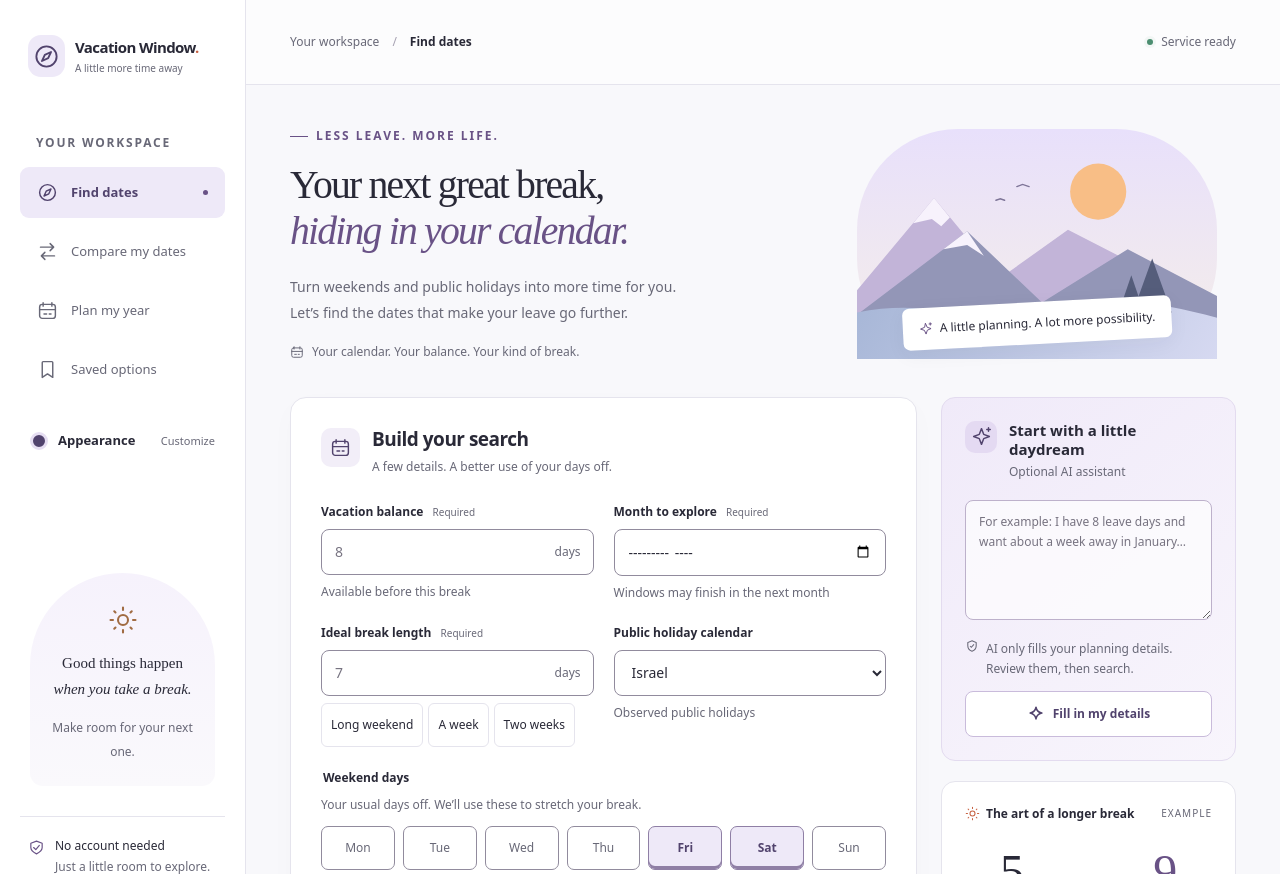
Scenario: manual dates fill their chosen slot and require explicit conversion when lengths differ
The width and height of the screenshot is (1280, 874).
Expected: the text "Service ready" is shown, top-left (1147, 33), bottom-right (1236, 51)
Click the button "Plan my year" at (122, 310), box top-left (20, 285), bottom-right (225, 336)
(page scrolled)
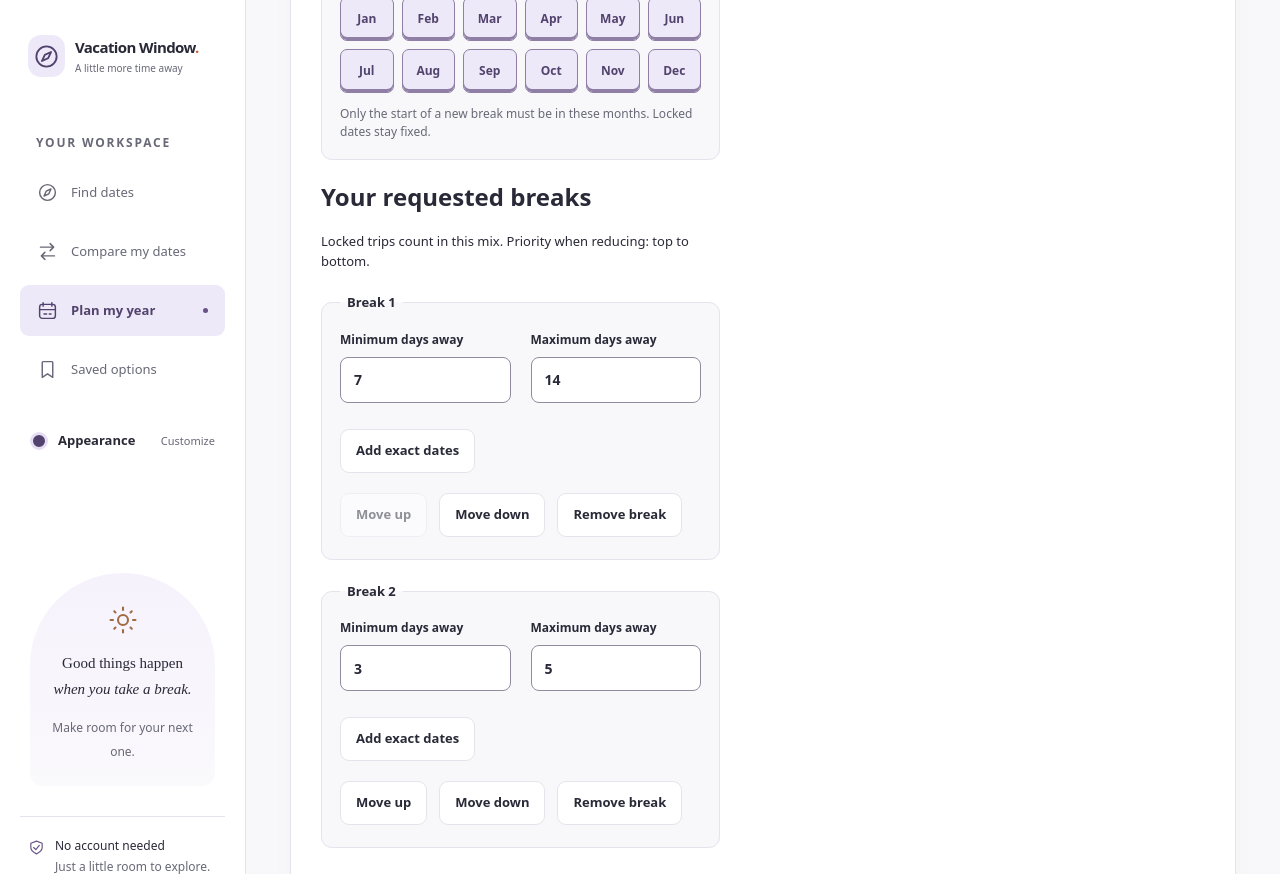
Click the 1st button "Add exact dates" at (408, 451), box top-left (340, 429), bottom-right (475, 473)
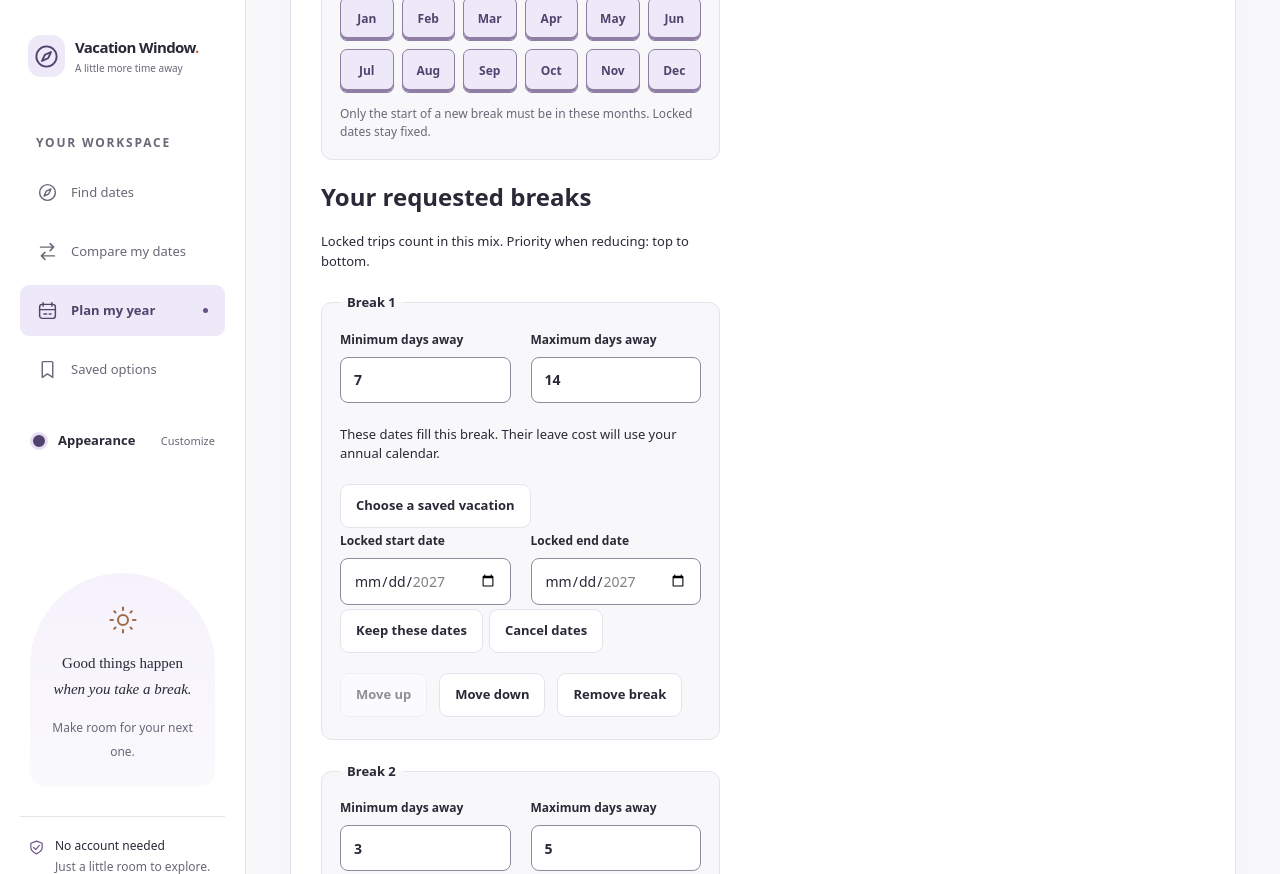
Type "2027-08-06" into the date field labelled "Locked start date" at (425, 581), box top-left (340, 558), bottom-right (510, 605)
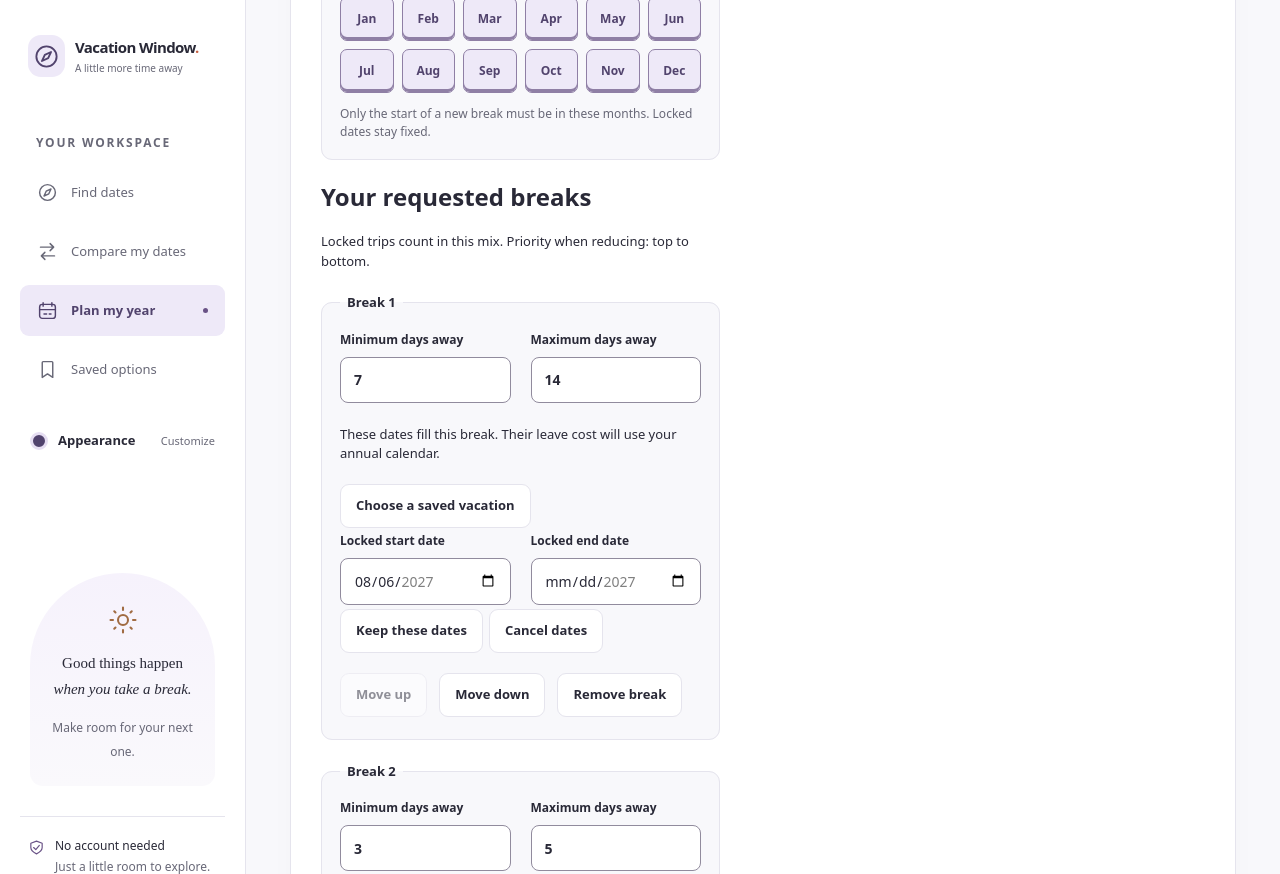
Type "2027-08-07" into the date field labelled "Locked end date" at (616, 581), box top-left (530, 558), bottom-right (701, 605)
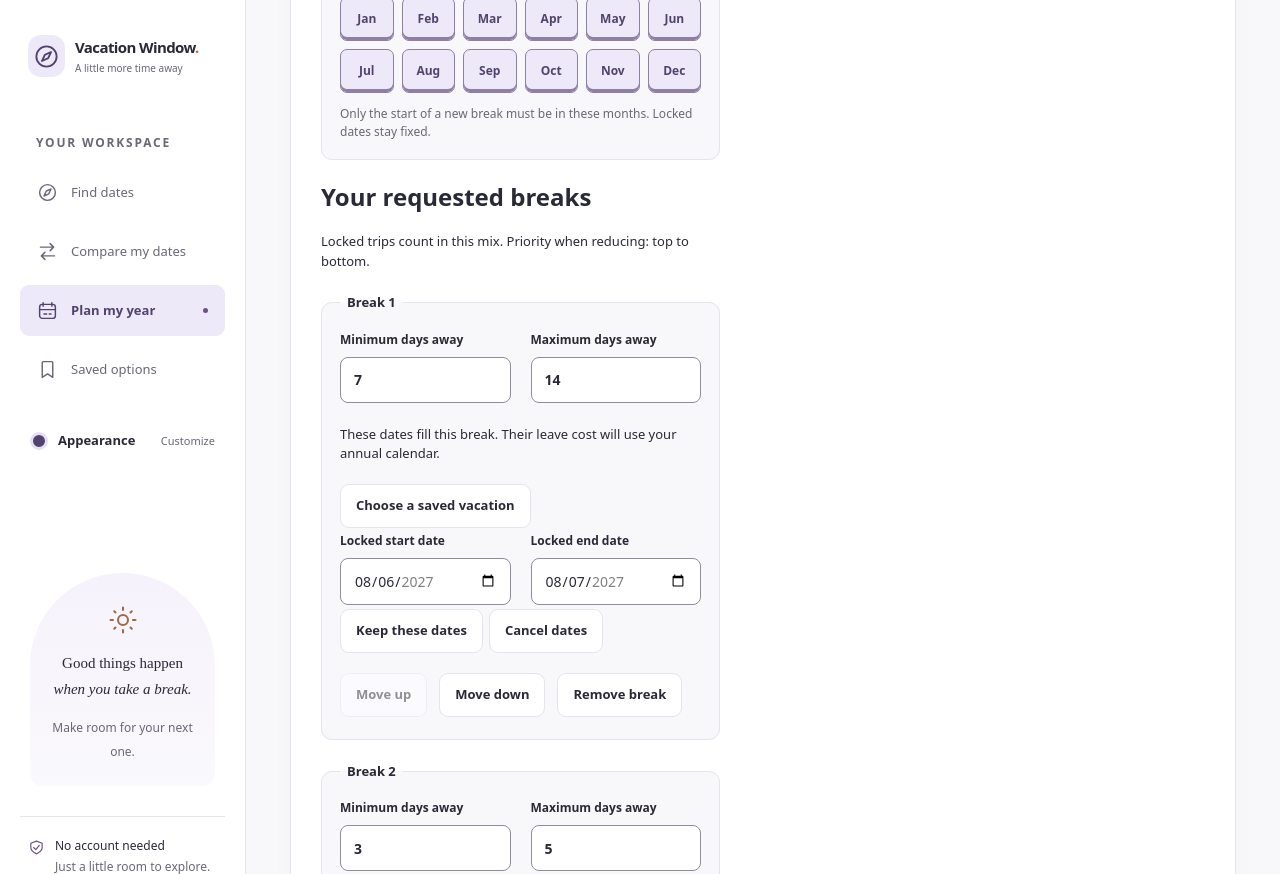
Click the button "Keep these dates" at (411, 631), box top-left (340, 609), bottom-right (483, 653)
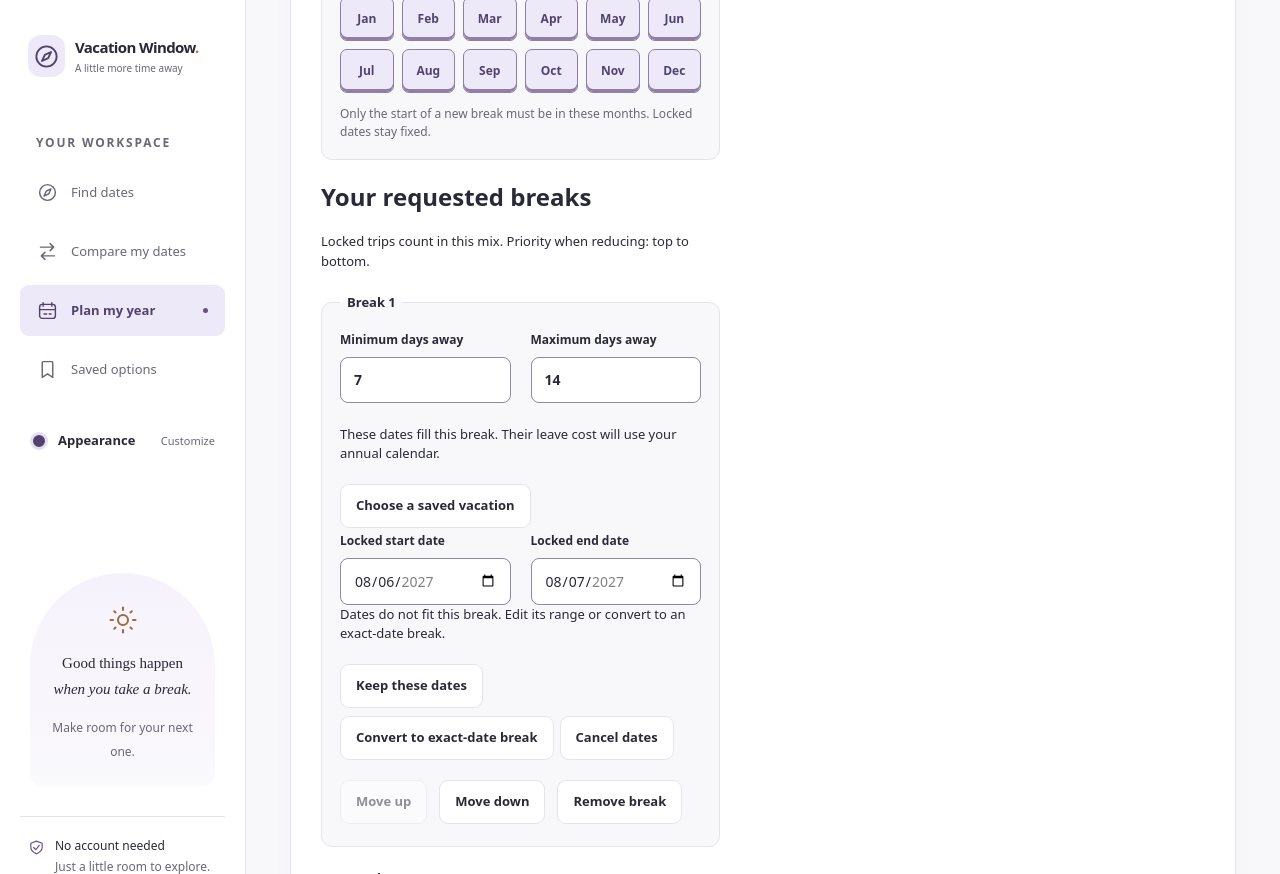
Now the message shows "Dates do not fit this break", box top-left (340, 605), bottom-right (686, 642)
Click the button "Convert to exact-date break" at (447, 738), box top-left (340, 716), bottom-right (554, 760)
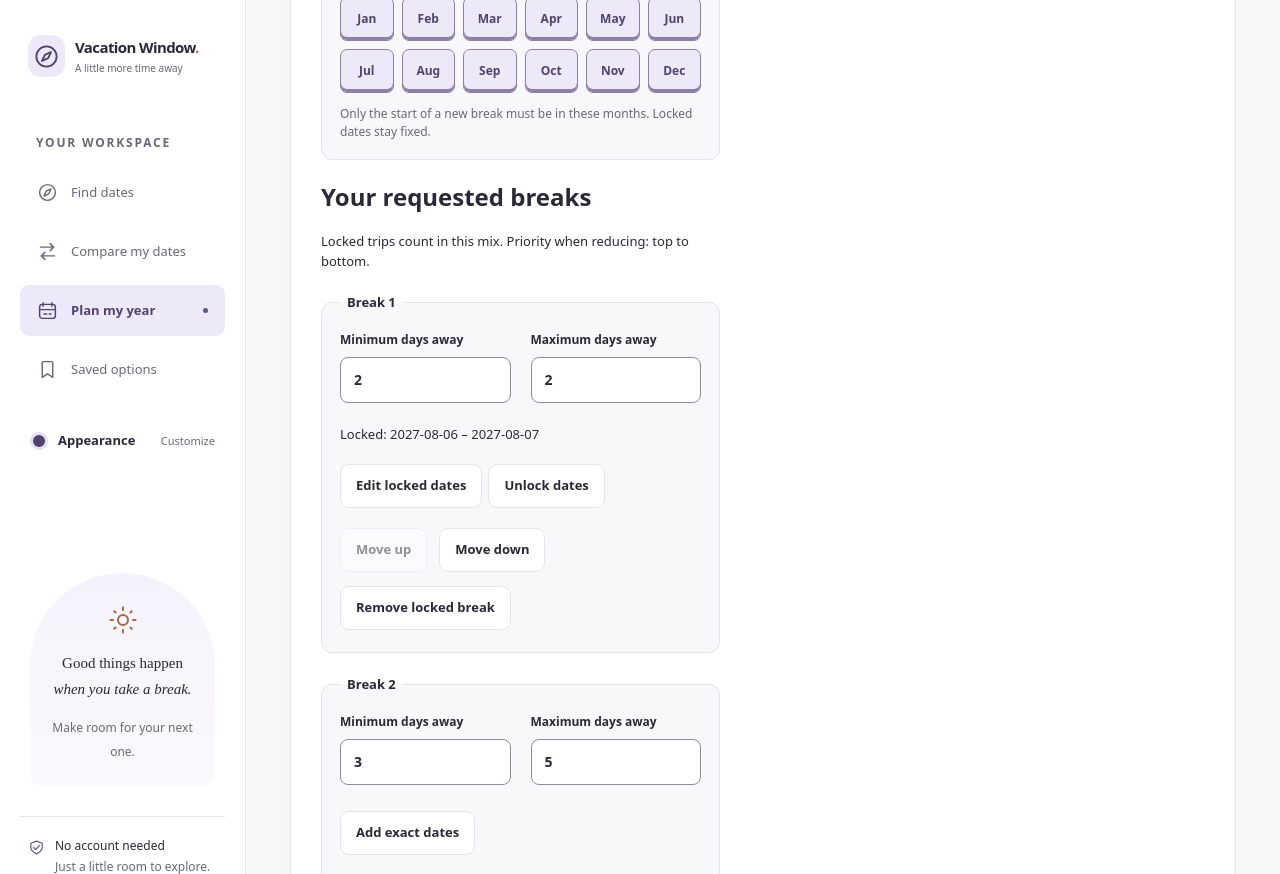
Now the text "Locked: 2027-08-06 – 2027-08-07" is shown, box top-left (340, 425), bottom-right (539, 443)
Now the 1st number field labelled "Minimum days away" holds "2", box top-left (340, 357), bottom-right (510, 403)
